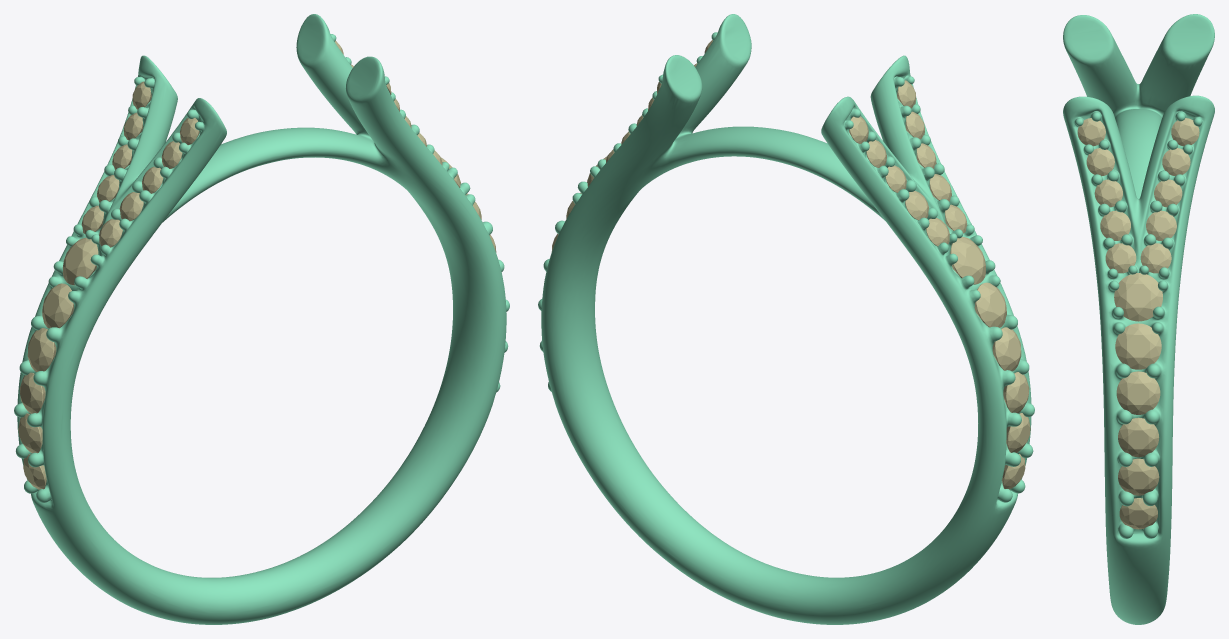
3 renders of one model, left to right at view 1: azimuth 30°, elevation 25°; view 2: azimuth 150°, elevation 25°; view 3: azimuth 270°, elevation 25°, orthographic. The views are drawn at different scales.
Visible parts, largest first — view 1: Metal02, Diamond_Gem.015, Diamond_Gem.004, Diamond_Gem, Diamond_Gem.002; view 2: Metal02, Diamond_Gem.015, Diamond_Gem.004, Diamond_Gem, Diamond_Gem.002; view 3: Metal02, Diamond_Gem.016, Diamond_Gem.027, Diamond_Gem.031, Diamond_Gem.029, Diamond_Gem.030, Diamond_Gem.028, Diamond_Gem.022, Diamond_Gem.023, Diamond_Gem.021, Diamond_Gem.020, Diamond_Gem.018 (+5 smaller).
Part boxes in pixels (<box>): Metal02: <box>14,14,509,624</box>; Diamond_Gem.015: <box>62,237,98,285</box>; Diamond_Gem.004: <box>42,283,74,328</box>; Diamond_Gem: <box>27,328,56,371</box>; Diamond_Gem.002: <box>19,372,45,413</box>; Metal02: <box>538,14,1034,624</box>; Diamond_Gem.015: <box>950,237,985,284</box>; Diamond_Gem.004: <box>974,282,1006,327</box>; Diamond_Gem: <box>992,327,1021,371</box>; Diamond_Gem.002: <box>1003,372,1029,413</box>; Metal02: <box>1063,14,1214,624</box>; Diamond_Gem.016: <box>1114,273,1162,321</box>; Diamond_Gem.027: <box>1115,323,1161,369</box>; Diamond_Gem.031: <box>1116,371,1160,414</box>; Diamond_Gem.029: <box>1118,417,1159,457</box>; Diamond_Gem.030: <box>1118,458,1159,495</box>; Diamond_Gem.028: <box>1119,498,1157,529</box>; Diamond_Gem.022: <box>1100,210,1130,240</box>; Diamond_Gem.023: <box>1105,243,1136,273</box>; Diamond_Gem.021: <box>1146,210,1176,240</box>; Diamond_Gem.020: <box>1140,243,1171,273</box>; Diamond_Gem.018: <box>1162,148,1190,176</box>.
Size of the model in its own units: 21.06 by 23.37 by 5.9.
